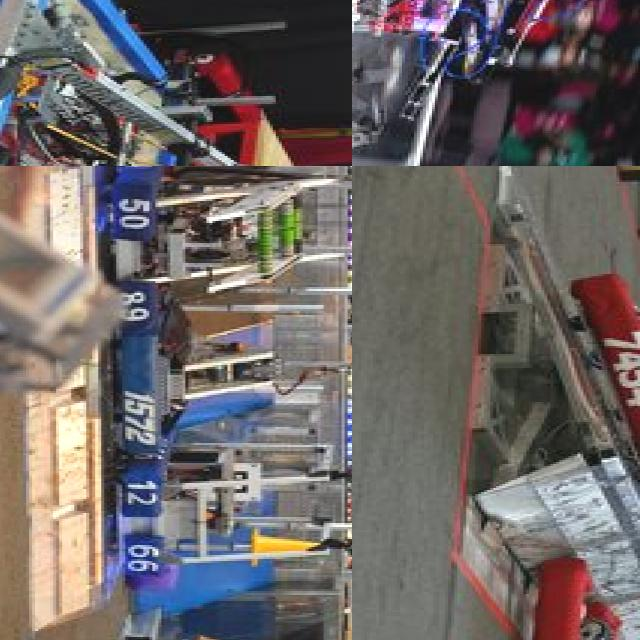FRC-Robots: (352, 0, 631, 166), (0, 0, 225, 166), (103, 291, 313, 459), (73, 166, 335, 286), (94, 467, 286, 608), (469, 567, 640, 640)
